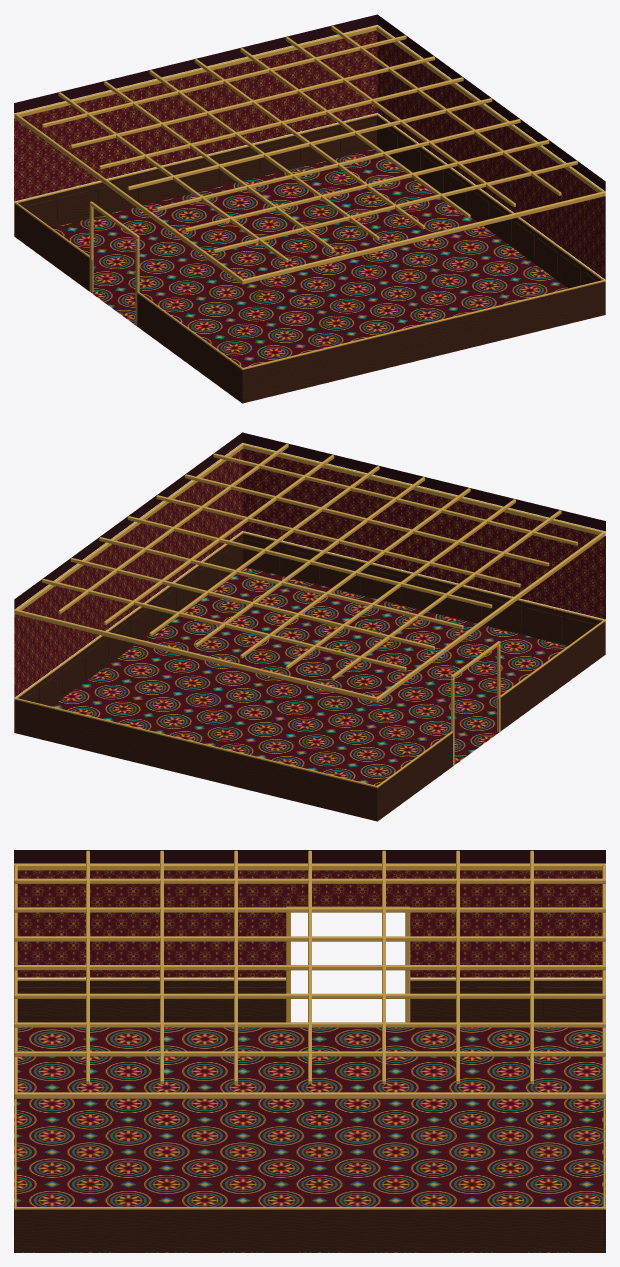
The model's file is casino_sala.glb.
The picture shows the model from 3 angles, top to bottom: view 1: azimuth 30°, elevation 25°; view 2: azimuth 150°, elevation 25°; view 3: azimuth 270°, elevation 25°; orthographic projection. The views are drawn at different scales.
Parts seen in each view (by area): view 1: casino_sala; view 2: casino_sala; view 3: casino_sala.
Boxes of the visible parts, x1,y1,x2,y2 form: casino_sala: [14, 14, 605, 403]; casino_sala: [14, 432, 605, 821]; casino_sala: [14, 850, 605, 1252].
Size of the model in its own units: 11.4 by 4 by 12.4.
6 materials, 3 textured.
